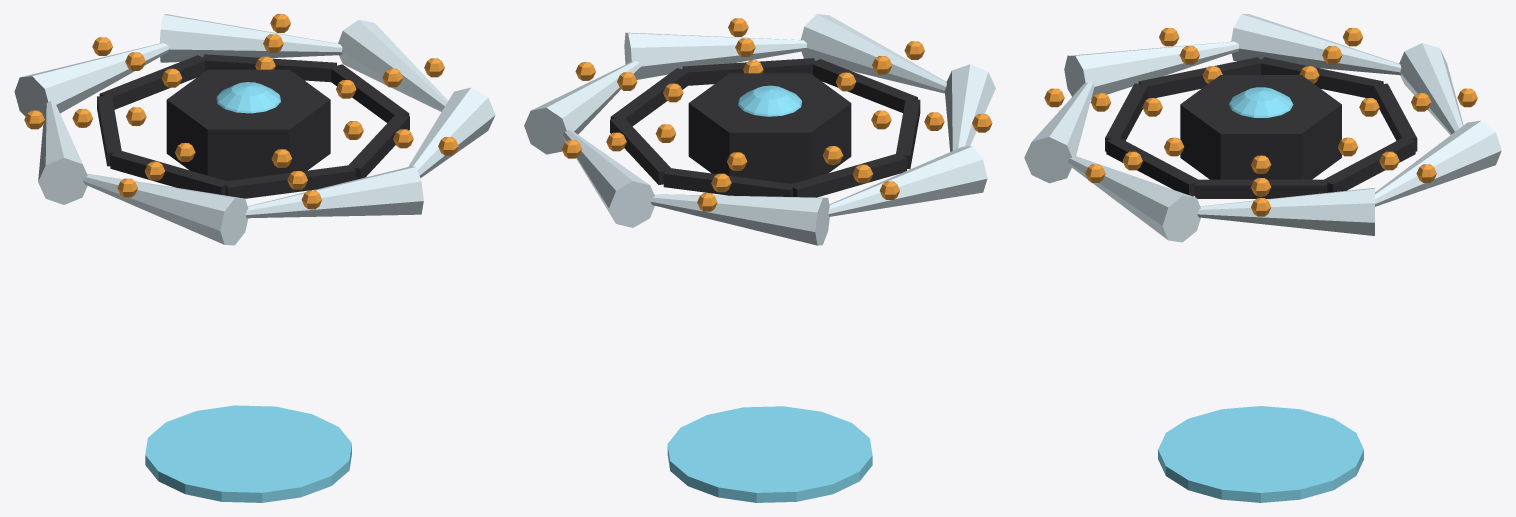
The model's file is SM_Unit_IceWisp.glb.
3 views of the same model, side by side, from view 1: azimuth 30°, elevation 25°; view 2: azimuth 150°, elevation 25°; view 3: azimuth 270°, elevation 25° (orthographic).
Visible parts, largest first — view 1: SM_Unit_IceWisp; view 2: SM_Unit_IceWisp; view 3: SM_Unit_IceWisp.
Part boxes in pixels (x1,y1,x2,y2): SM_Unit_IceWisp: [14, 14, 495, 502]; SM_Unit_IceWisp: [524, 14, 995, 502]; SM_Unit_IceWisp: [1024, 14, 1501, 502].
Size of the model in its own units: 1.28 by 1.11 by 1.3.
